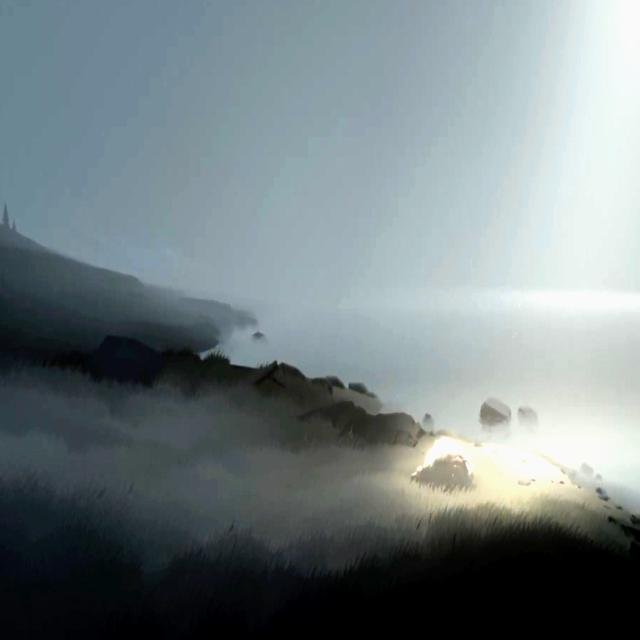blob: (410, 436, 482, 492)
